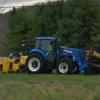Tractor: (19, 30, 93, 76)
